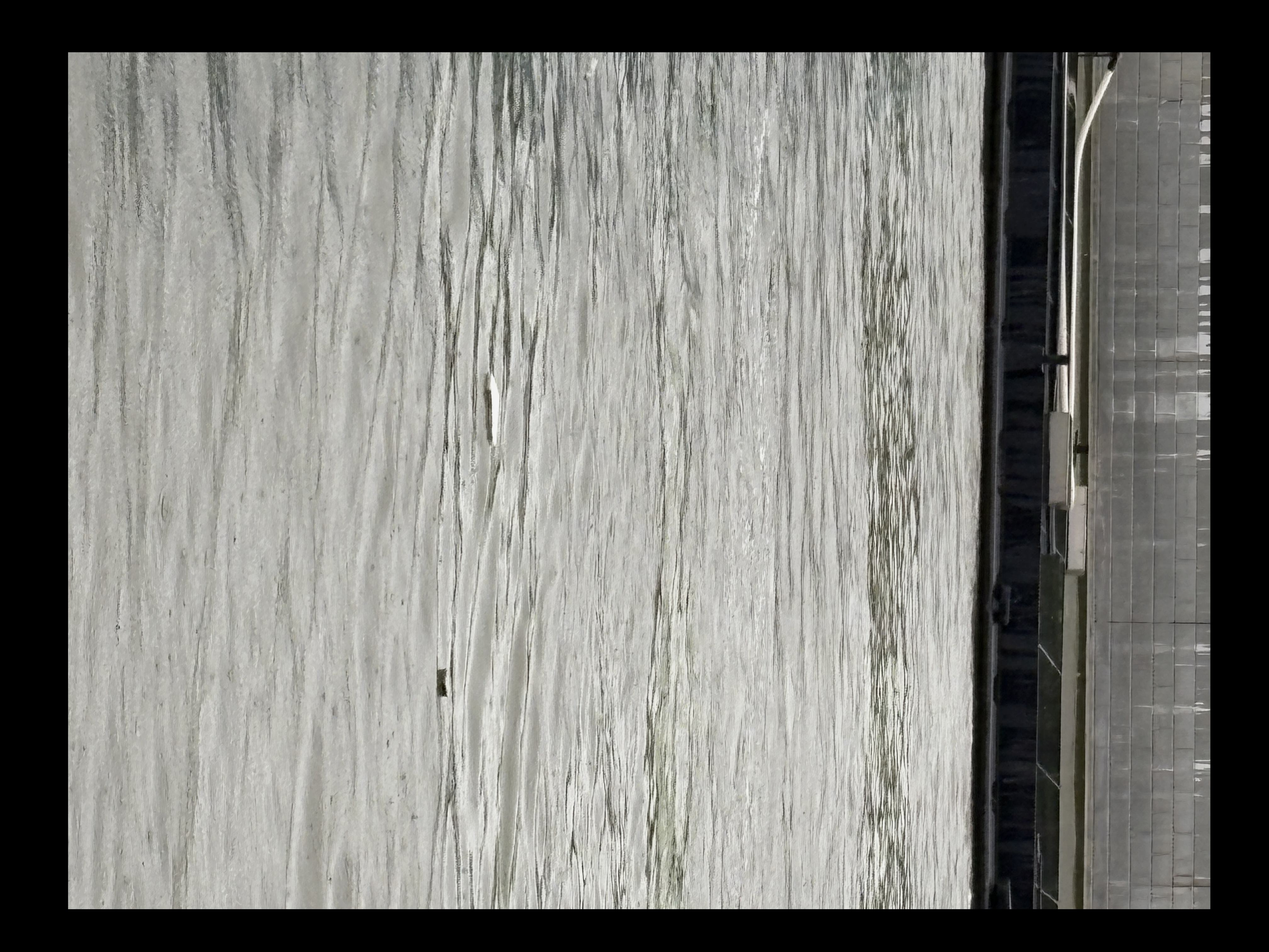Plastic wastes: (891, 363, 908, 434), (837, 656, 858, 687)
